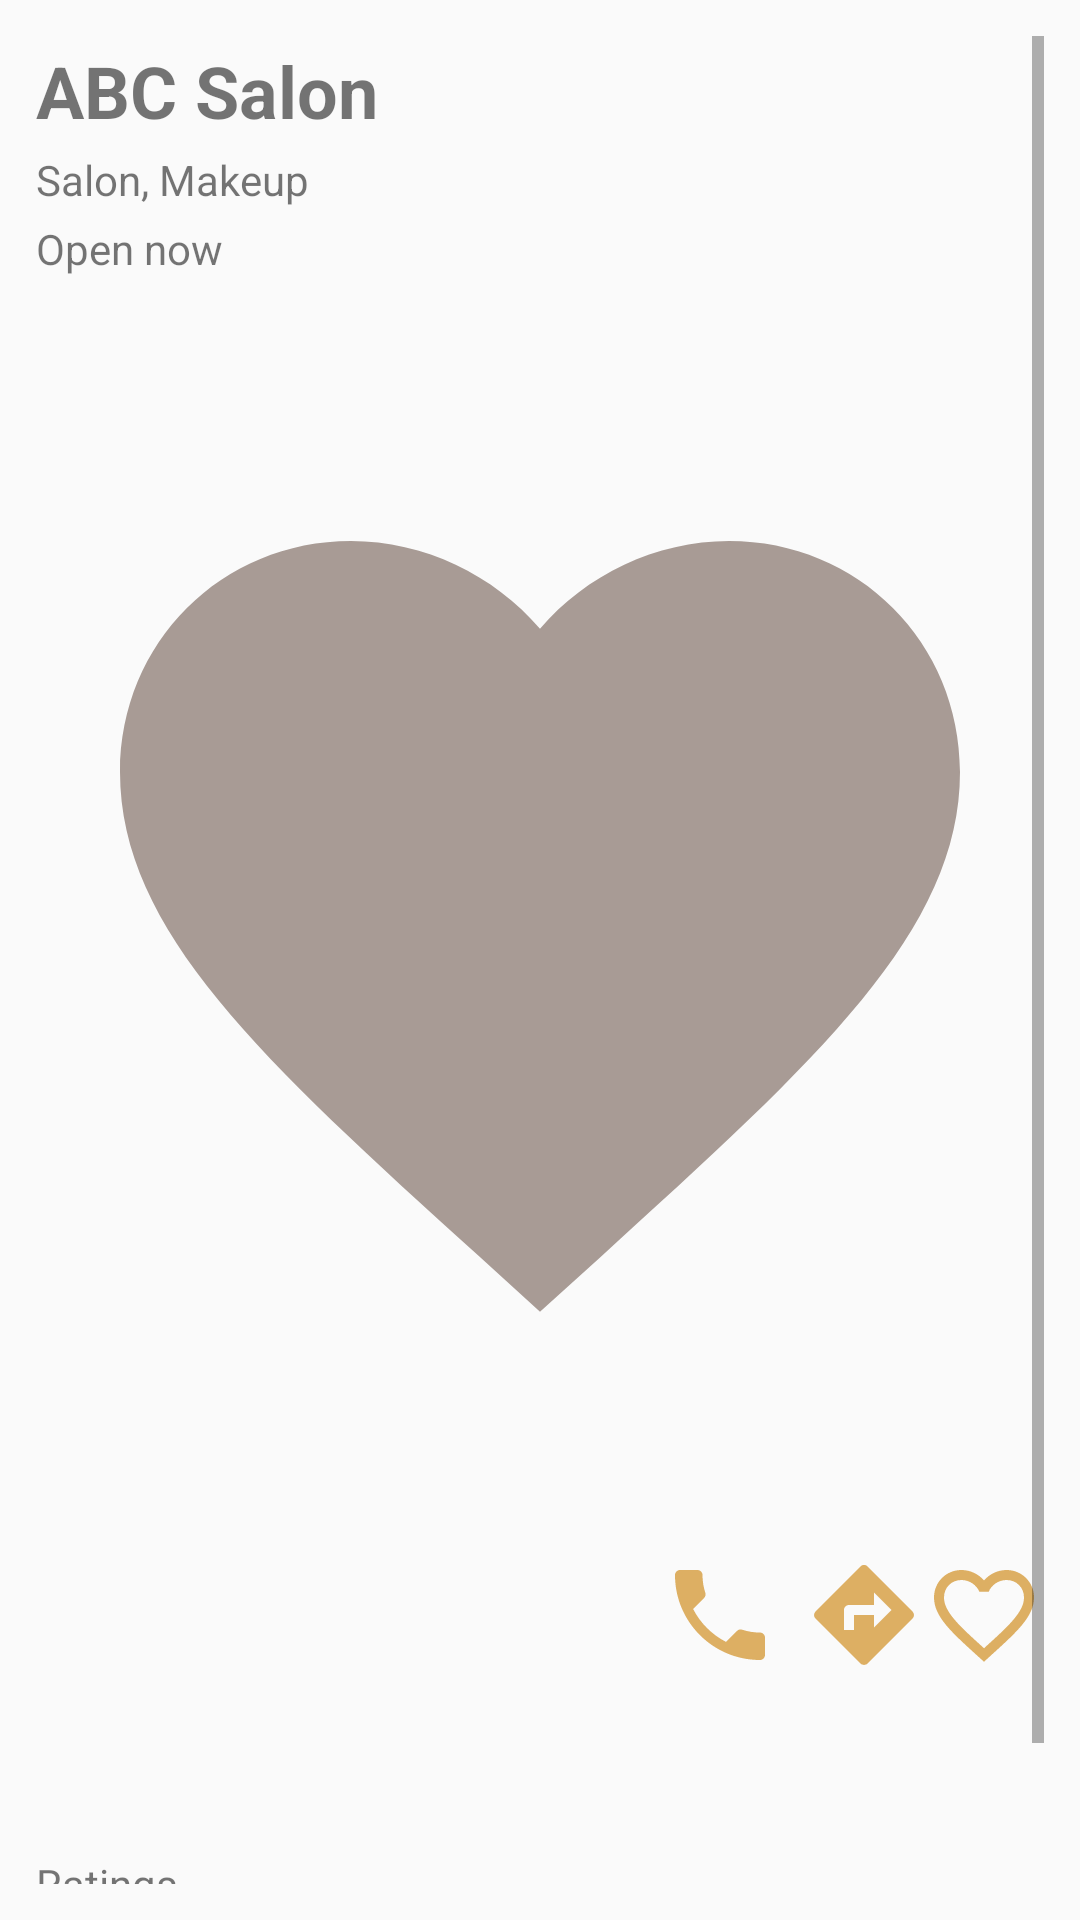

Icon bounding boxes for this 1080 × 1920 phone screenshot, format (x1, y1, x2, y2):
directions: (814, 1565, 914, 1665)
favorite border: (934, 1555, 1044, 1675)
phone: (675, 1570, 765, 1660)
